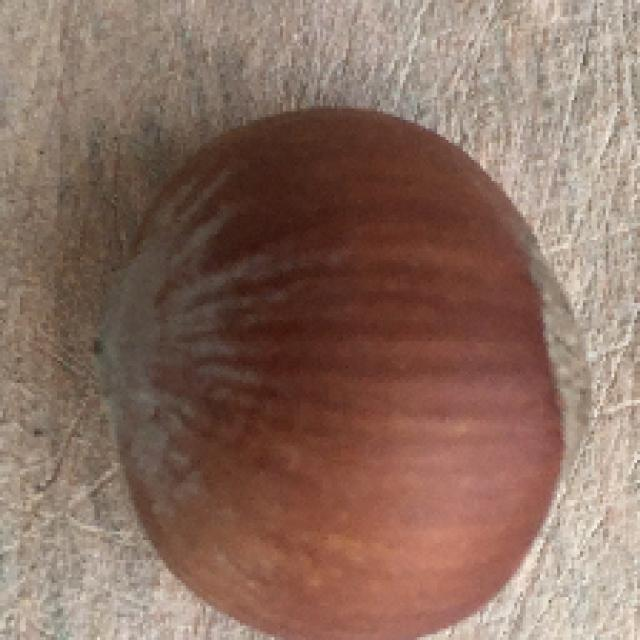damagedHazelnut: (94, 94, 597, 640)
